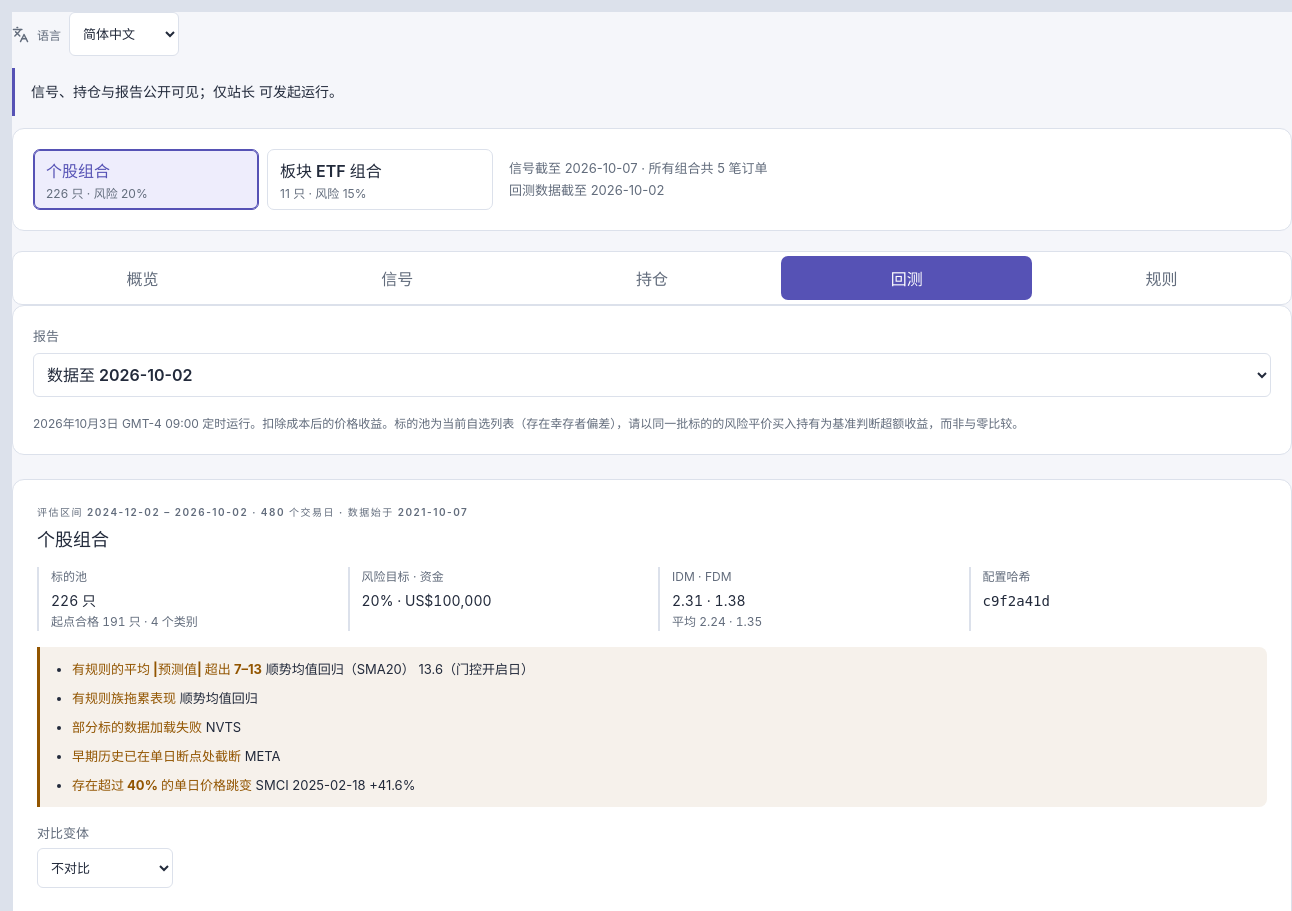
Test: shows the backtest report with tests, diagnostics and attribution in Chinese
Expected: the list items read "有规则的平均 |预测值| 超出 7–13 顺势均值回归（SMA20） 13.6（门控开启日）", "有规则族拖累表现 顺势均值回归", "部分标的数据加载失败 NVTS", "早期历史已在单日断点处截断 META", "存在超过 40% 的单日价格跳变 SMCI 2025-02-18 +41.6%", in this order, [72,661,534,677]; [72,690,258,706]; [72,719,241,735]; [72,748,280,764]; [72,776,415,792]
Step 1. Select "剔除绝对趋势" in the dropdown labelled "对比变体" → (105,868), box [37,848,173,888]
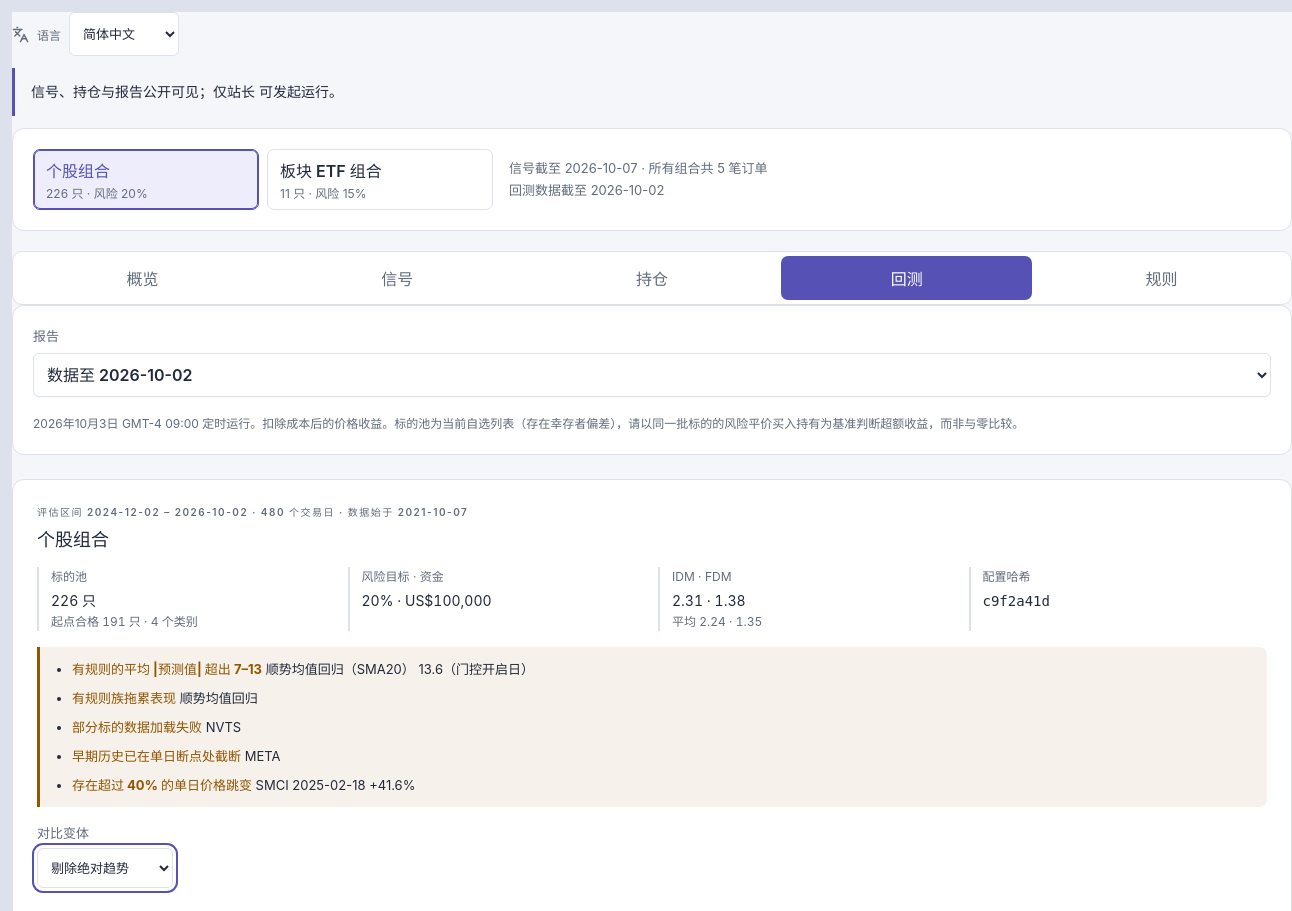
Step 2. Select "数据至 2026-09-25" in the dropdown labelled "报告" → (652,375), box [33,353,1271,397]
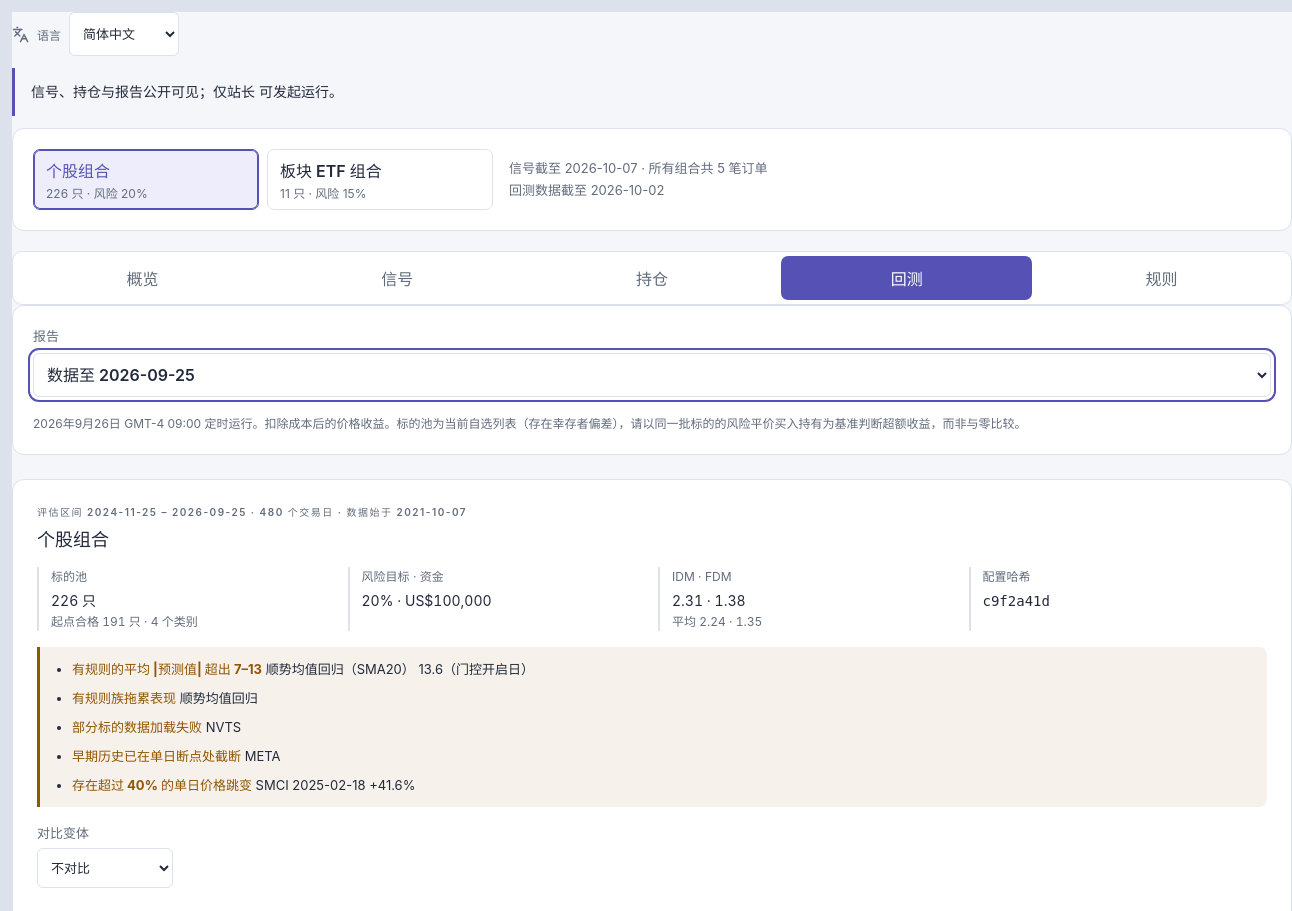
Expected: the text "评估区间 2024-11-25 – 2026-09-25 · 480 个交易日 · 数据始于 2021-10-07" is shown, [37,506,467,518]
